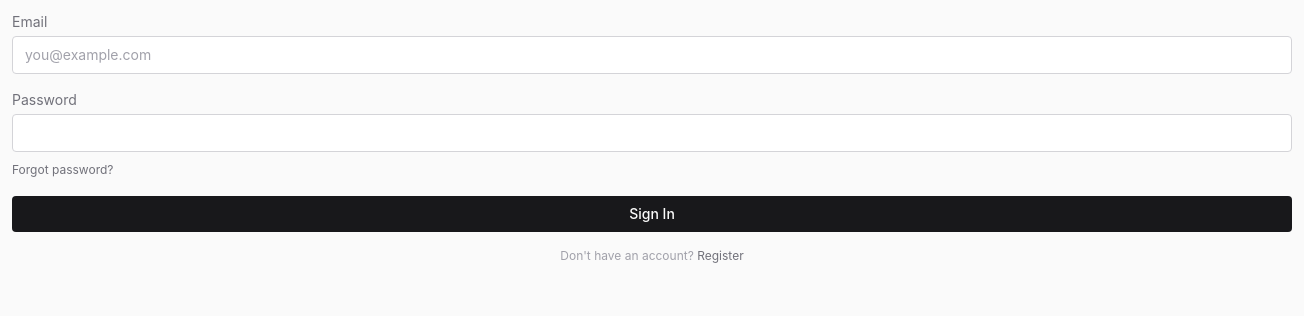
it: LoginForm › maps invalid_credentials to a friendly message and stays put
The image size is (1304, 316).
Type "me@example.com" into the field labelled "Email". click: (652, 55)
box: 12,36 -> 1292,74
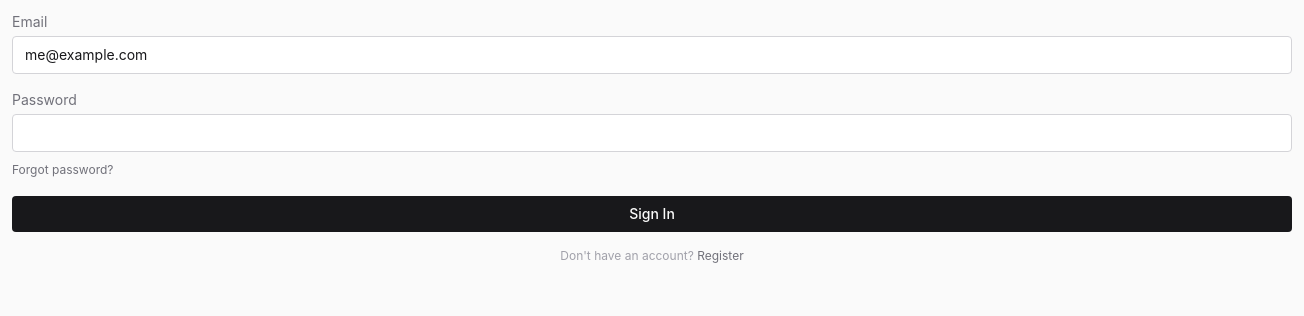
Type "secret123" into the password field labelled "Password". click: (652, 133)
box: 12,114 -> 1292,152
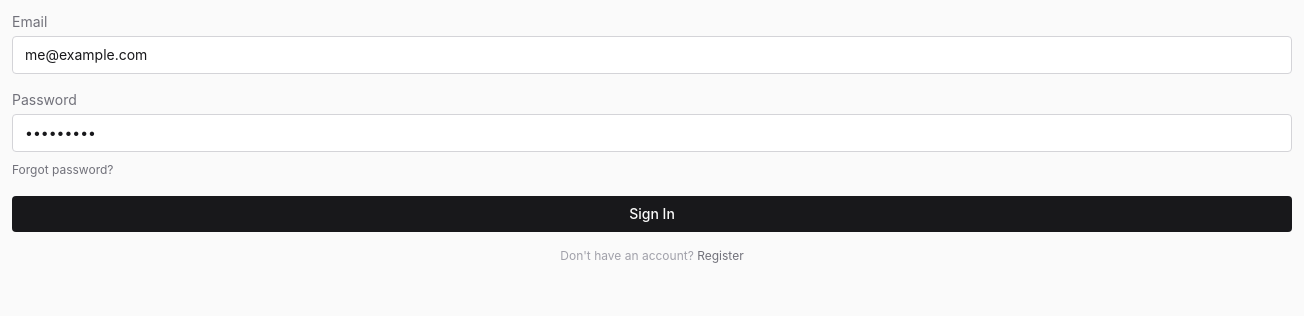
Click the button "Sign In". click: (652, 214)
box: 12,196 -> 1292,232
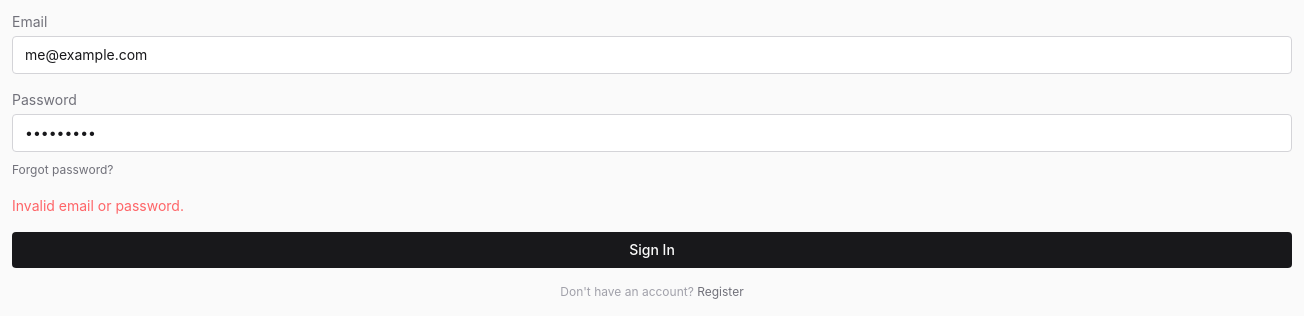
Now the text "Invalid email or password." is shown, box 12,197 -> 184,214
